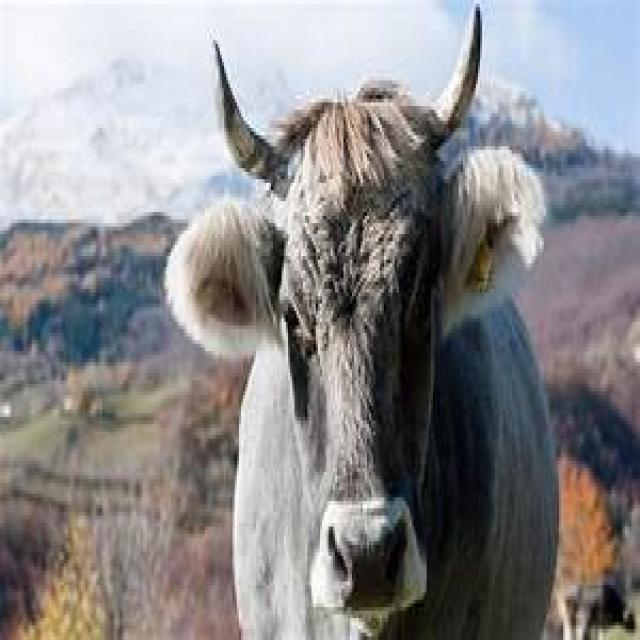cow: (162, 4, 561, 636)
